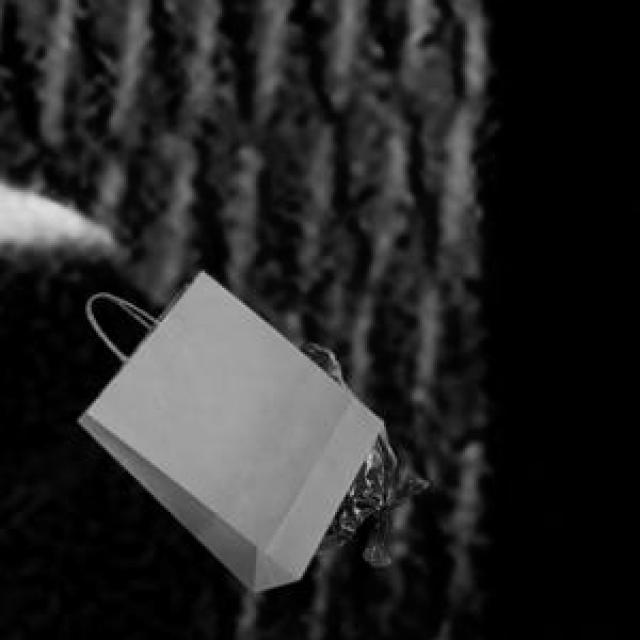miscellaneous trash: (294, 339, 425, 563)
paper: (75, 269, 380, 587)
